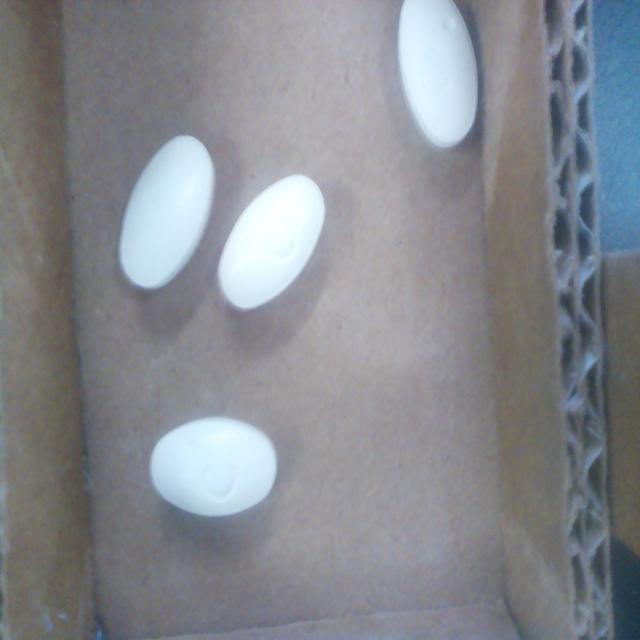pill: (119, 136, 215, 288), (218, 175, 325, 310), (150, 417, 277, 516), (398, 0, 478, 147)
